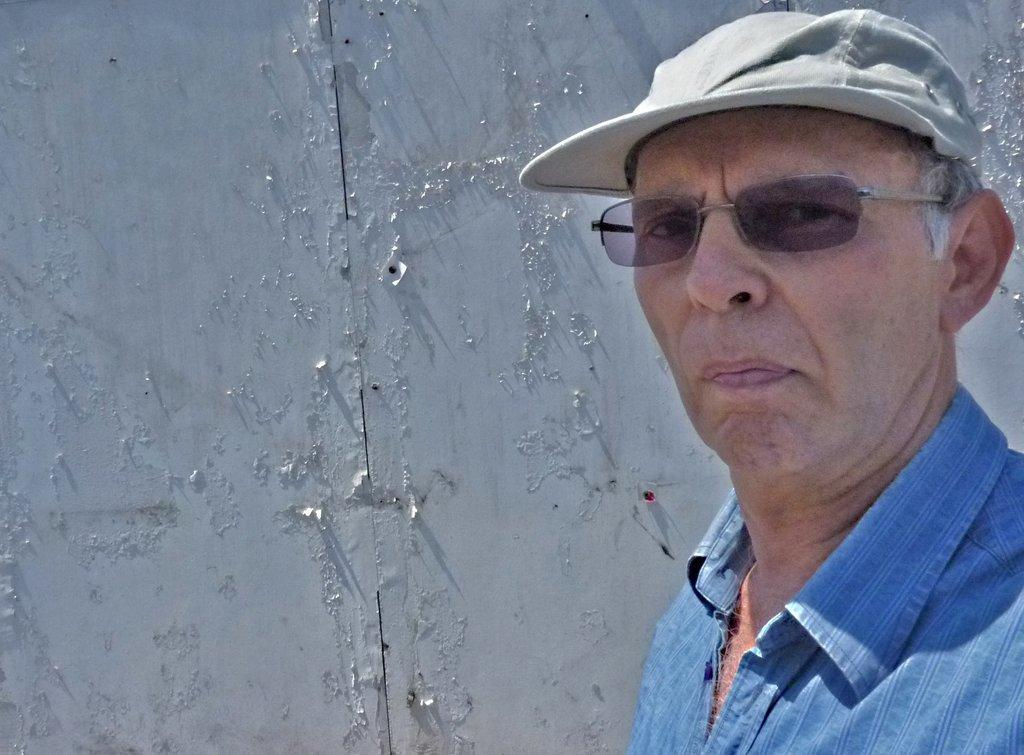Hat: (518, 6, 978, 202)
